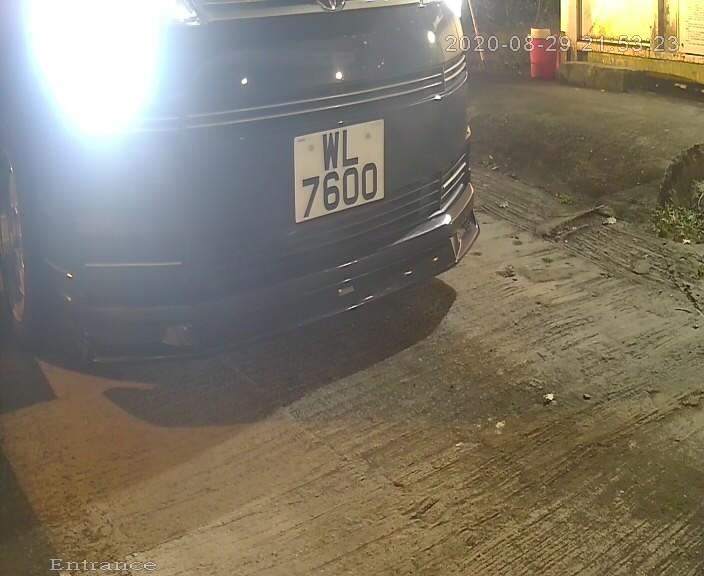License Plate: (283, 103, 396, 237)
